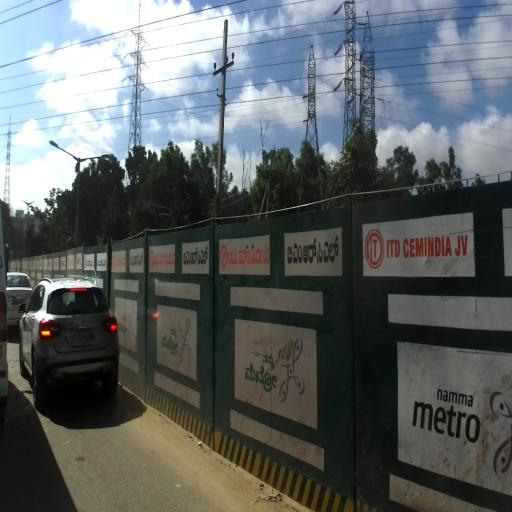street_light_0: (48, 140, 81, 174), (76, 154, 110, 177), (21, 199, 29, 208), (27, 200, 35, 208)
